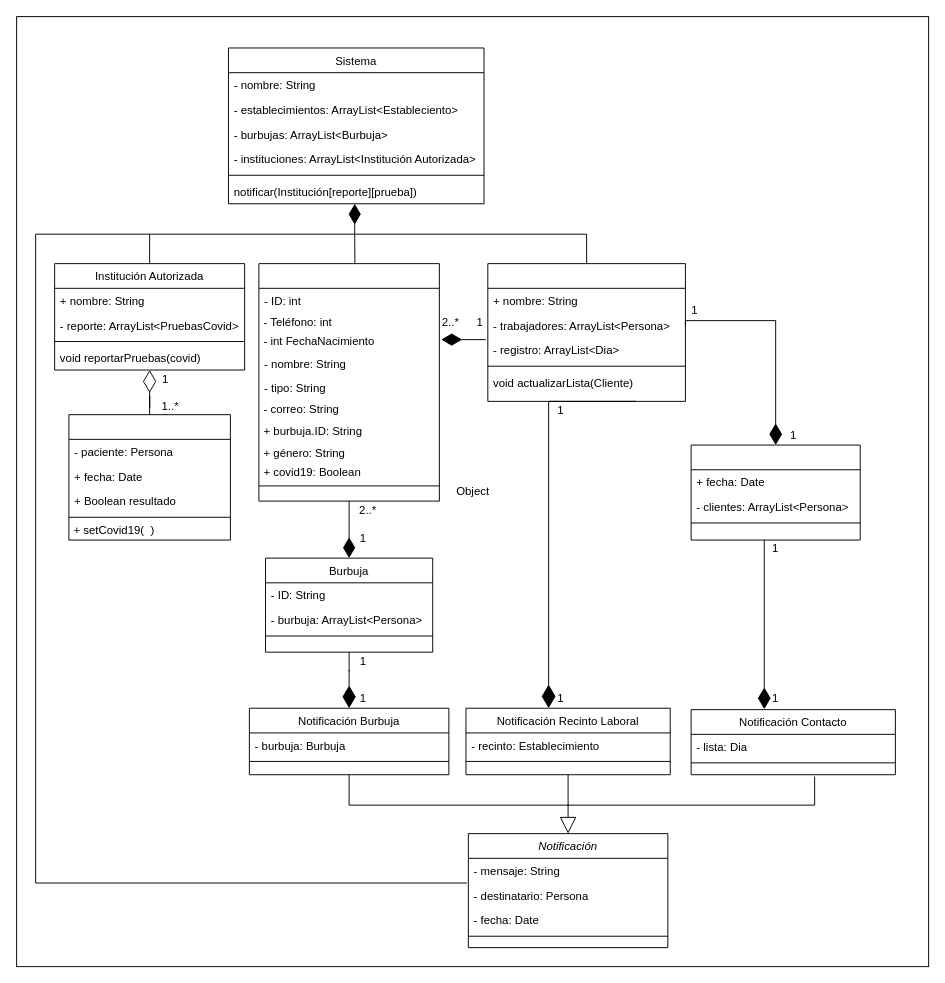
This 945x983 diagram has some shape labels left out. Each missing label, with the box of its shape:
Día: (690, 444, 860, 540)
Establecimiento: (487, 263, 685, 401)
Persona: (258, 263, 439, 501)
Prueba Covid: (68, 414, 230, 540)
